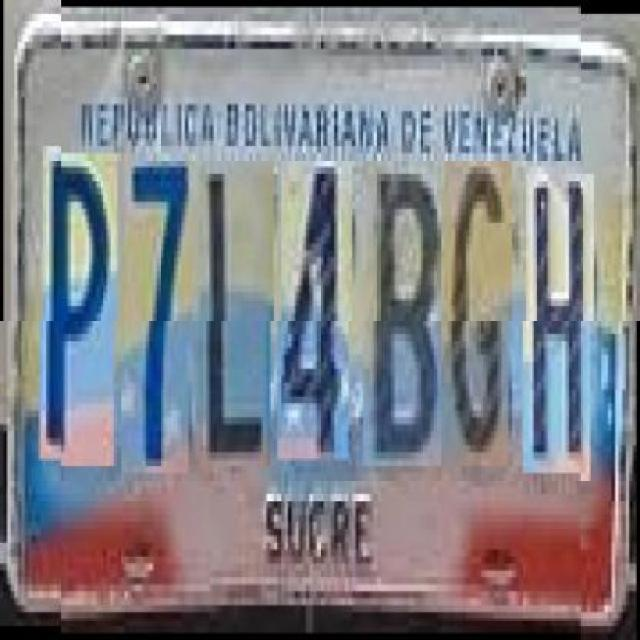4: (280, 159, 352, 459)
7: (124, 153, 191, 473)
b: (366, 160, 445, 466)
g: (444, 160, 511, 466)
h: (526, 167, 594, 473)
l: (198, 160, 274, 466)
p: (42, 152, 118, 466)
